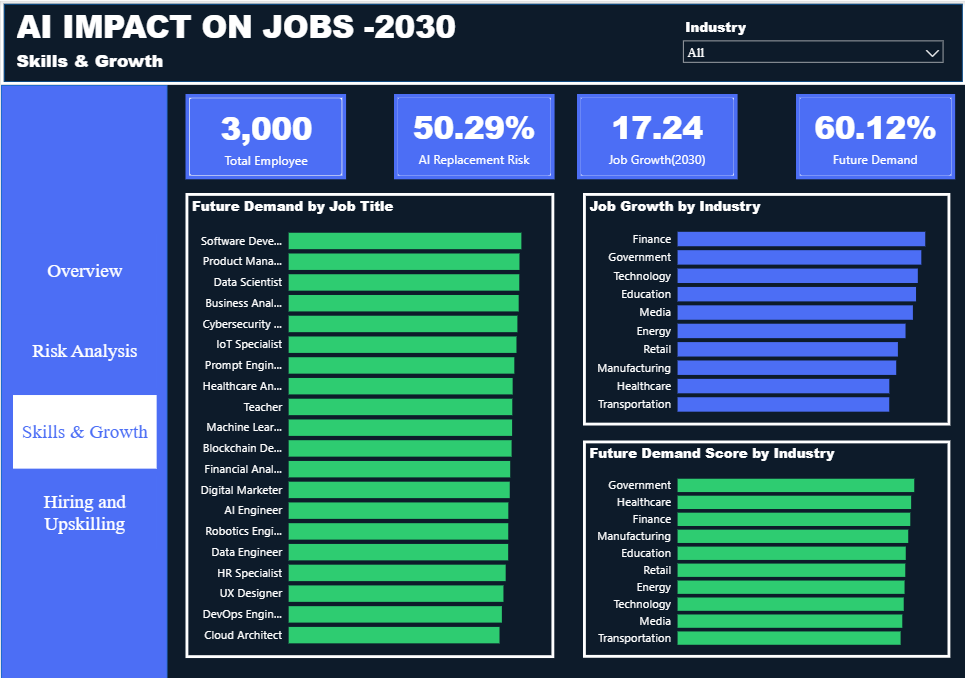

The page's visual inventory and layout, read from the dashboard file:
{"tool":"powerbi","page":{"name":"Skills & Growth","canvas":[1350,950],"ordinal":2},"visuals":[{"type":"shape","box":[0,0,1349.5,117.5],"z":0},{"type":"clusteredBarChart","title":"Job Growth by Industry","fields":{"Category":["cleaned_data.Industry"],"Y":["Avg(cleaned_data.Job_Growth_2030)"]},"box":[814.3,268.6,514.2,325.3],"z":1000},{"type":"barChart","title":"Future Demand  by Job Title","fields":{"Category":["cleaned_data.Job_Title"],"Y":["Avg(cleaned_data.Future_Demand_Score)"]},"box":[258.1,268.6,516.3,650.6],"z":2000},{"type":"clusteredBarChart","title":"Future Demand Score by Industry","fields":{"Category":["cleaned_data.Industry"],"Y":["Avg(cleaned_data.Future_Demand_Score)"]},"box":[814.3,614.9,514.2,304.3],"z":3000},{"type":"slicer","fields":{"Values":["cleaned_data.Industry"]},"box":[944.4,16.8,384.1,83.9],"z":4000},{"type":"cardVisual","fields":{"Data":["Avg(cleaned_data.AI_Replacement_Risk)"]},"box":[549.9,130.1,224.6,119.6],"z":5000},{"type":"cardVisual","fields":{"Data":["Avg(cleaned_data.Job_Growth_2030)"]},"box":[805.9,130.1,224.6,119.6],"z":6000},{"type":"cardVisual","fields":{"Data":["Avg(cleaned_data.Future_Demand_Score)"]},"box":[1112.3,130.1,222.5,119.6],"z":7000},{"type":"cardVisual","fields":{"Data":["Count(cleaned_data.Employee_ID)"]},"box":[258.1,130.1,224.6,119.6],"z":8000},{"type":"shape","box":[0,116.8,233,833.2],"z":9000},{"type":"pageNavigator","box":[16.8,325.3,201.5,442.8],"z":10000},{"type":"textbox","box":[16.8,0,902.5,117.5],"z":11000}]}

Visuals, with their boxes in screenshot pixels (x1, y1, x2, y2), scaled from the page's 1350x950 canvas onto the 965x678 screenshot:
shape: x1=0, y1=0, x2=964, y2=84
"Job Growth by Industry" clusteredBarChart: x1=582, y1=192, x2=950, y2=424
"Future Demand  by Job Title" barChart: x1=184, y1=192, x2=554, y2=656
"Future Demand Score by Industry" clusteredBarChart: x1=582, y1=439, x2=950, y2=656
slicer - cleaned_data.Industry: x1=675, y1=12, x2=950, y2=72
cardVisual - Avg(cleaned_data.AI_Replacement_Risk): x1=393, y1=93, x2=554, y2=178
cardVisual - Avg(cleaned_data.Job_Growth_2030): x1=576, y1=93, x2=737, y2=178
cardVisual - Avg(cleaned_data.Future_Demand_Score): x1=795, y1=93, x2=954, y2=178
cardVisual - Count(cleaned_data.Employee_ID): x1=184, y1=93, x2=345, y2=178
shape: x1=0, y1=83, x2=167, y2=677
pageNavigator: x1=12, y1=232, x2=156, y2=548
textbox: x1=12, y1=0, x2=657, y2=84
